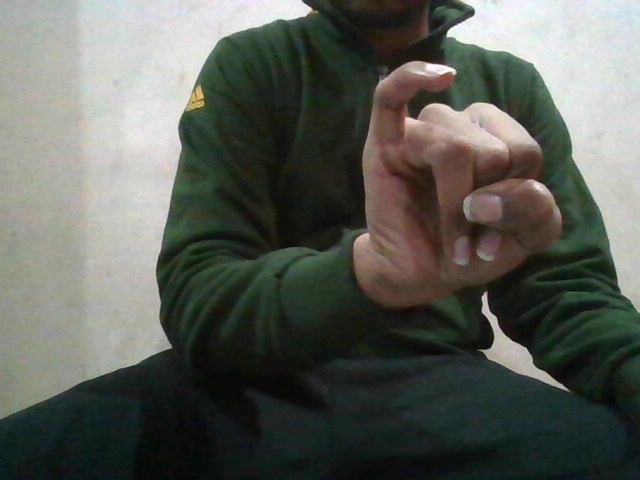J: (360, 54, 564, 300)
